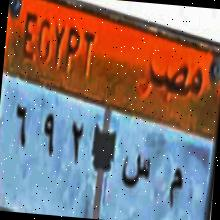2: (69, 114, 86, 170)
6: (9, 98, 34, 160)
9: (38, 103, 61, 167)
meem: (164, 162, 188, 220)
seen: (119, 146, 154, 200)
